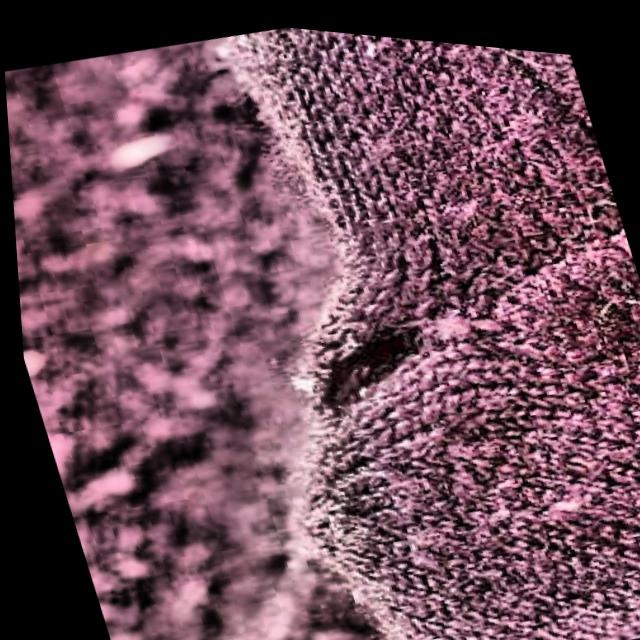seam: (212, 234, 543, 492)
